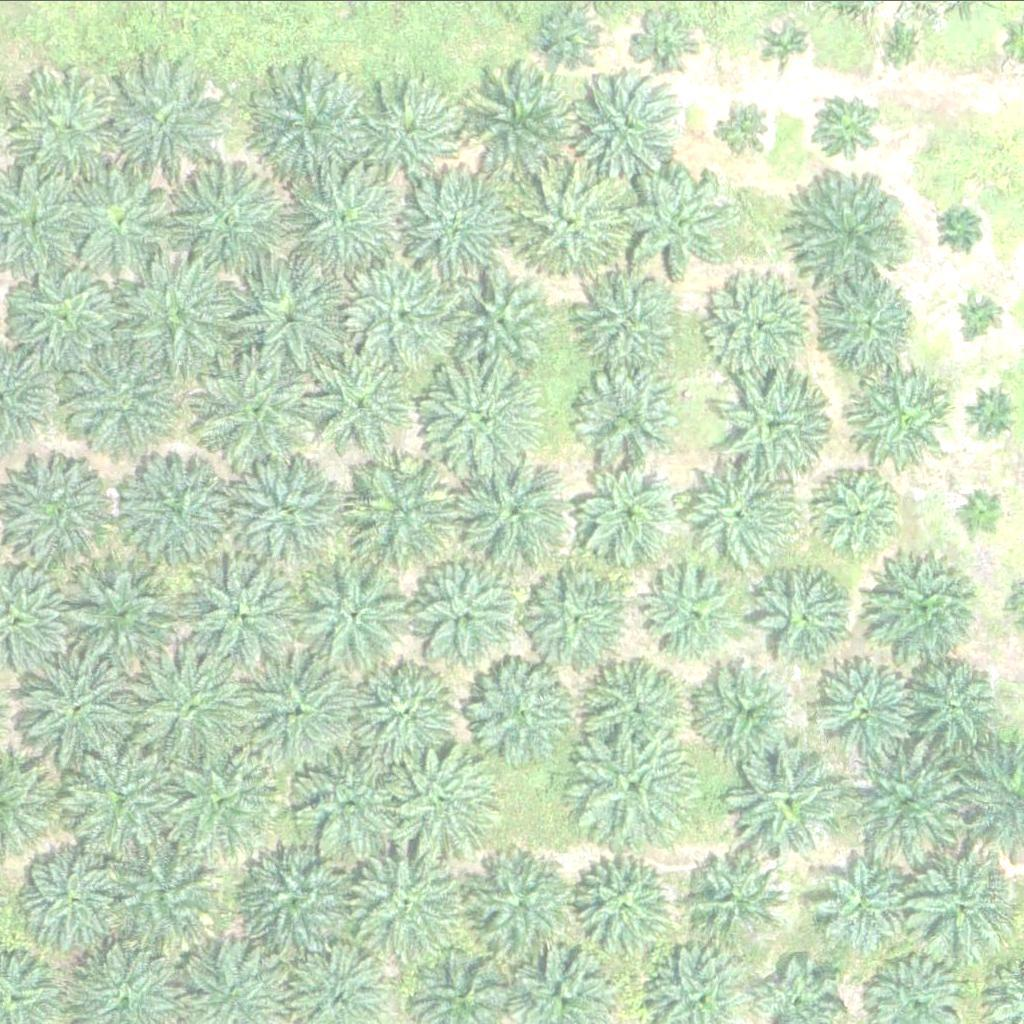Kelapa_Sawit: (4, 250, 130, 375), (6, 63, 132, 188), (233, 837, 359, 962), (344, 841, 470, 966), (389, 733, 515, 858), (291, 740, 417, 865), (128, 648, 254, 773), (232, 646, 358, 771), (339, 650, 465, 775), (460, 654, 586, 779), (410, 552, 536, 677), (293, 552, 419, 677), (114, 442, 240, 567), (340, 446, 466, 571), (456, 447, 582, 572), (196, 349, 322, 474), (64, 342, 190, 467), (127, 253, 253, 378), (230, 259, 356, 384), (352, 251, 478, 376), (403, 164, 529, 289), (289, 156, 415, 281), (168, 161, 294, 286), (106, 59, 232, 184), (251, 63, 377, 188), (471, 52, 597, 177), (710, 358, 836, 483), (676, 450, 802, 575), (571, 725, 697, 850), (841, 740, 967, 865), (14, 647, 139, 772), (176, 546, 301, 671), (64, 546, 189, 671), (227, 446, 352, 571), (423, 351, 548, 476), (791, 162, 916, 287), (872, 553, 986, 666), (62, 745, 175, 858), (17, 843, 130, 956), (115, 836, 228, 949), (618, 162, 731, 275), (704, 273, 817, 386), (910, 844, 1023, 957), (802, 653, 916, 765), (722, 743, 836, 855), (471, 849, 584, 961), (578, 66, 691, 178), (513, 162, 626, 274), (854, 365, 967, 477), (168, 750, 269, 850), (314, 351, 415, 451), (366, 77, 467, 177), (815, 276, 916, 376), (580, 270, 681, 370), (579, 371, 680, 471), (582, 461, 683, 561), (809, 462, 910, 562), (529, 573, 630, 673), (645, 561, 746, 661), (578, 659, 679, 759), (811, 853, 912, 953), (76, 170, 176, 270), (754, 569, 854, 669), (693, 656, 793, 756), (573, 856, 673, 956), (681, 847, 781, 947), (913, 659, 1001, 747), (462, 279, 551, 366), (807, 88, 882, 163), (634, 13, 697, 76), (536, 3, 599, 66), (724, 99, 775, 149), (967, 388, 1017, 438), (962, 487, 1012, 537), (937, 209, 975, 247), (963, 293, 1001, 330), (771, 26, 808, 63), (881, 22, 918, 59)
